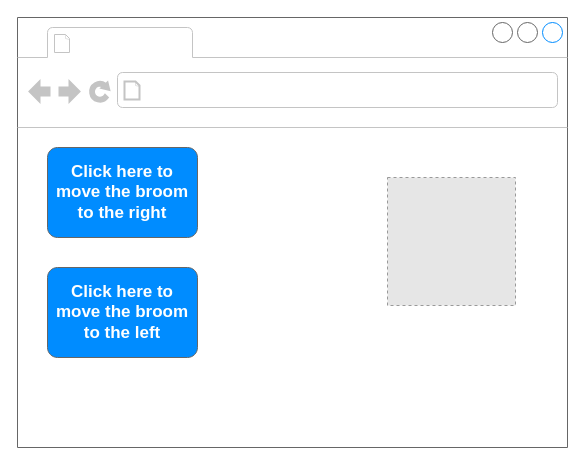
Image size: 585x465. Some labels were removed from this diagram. Grey dashed boxes stand in for pictures. Each missing label, with the box of its shape:
https://www.draw.io: (146, 76, 398, 104)
Page 1: (76, 28, 188, 56)
